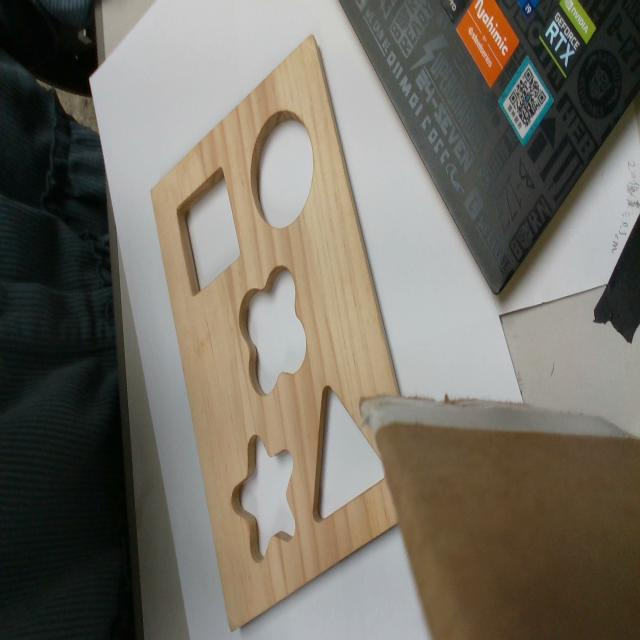circle: (250, 110, 314, 227)
flower: (236, 264, 306, 395)
square: (177, 165, 242, 297)
star: (230, 433, 297, 561)
triangle: (313, 384, 387, 523)
